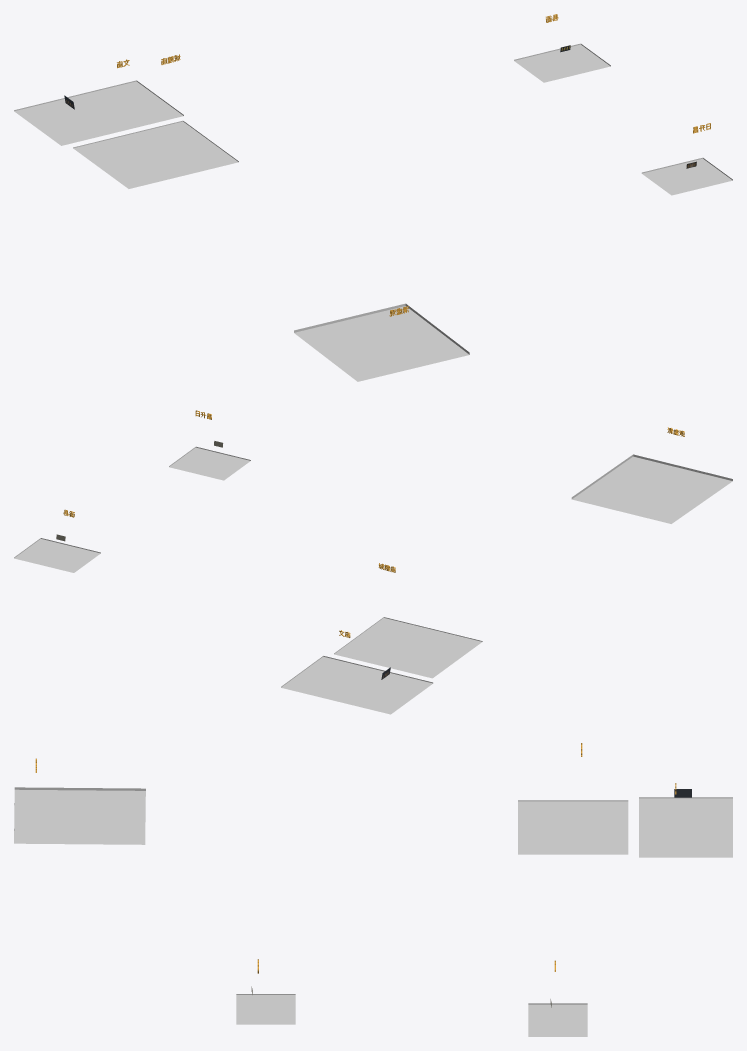
File: txt.glb
3 views of the same model, one above another, from view 1: azimuth 30°, elevation 25°; view 2: azimuth 150°, elevation 25°; view 3: azimuth 270°, elevation 25° (orthographic). The views are drawn at different scales.
Visible parts, largest first — view 1: _stm_qingxuguan, _stm_chenghuangmiao, _stm_wenmiao, _stm_xianya, _stm_rishengchang; view 2: _stm_qingxuguan, _stm_chenghuangmiao, _stm_wenmiao, _stm_xianya, _stm_rishengchang; view 3: _stm_qingxuguan, _stm_chenghuangmiao, _stm_wenmiao, _stm_xianya, _stm_rishengchang.
Boxes of the visible parts, x1,y1,x2,y2 form: _stm_qingxuguan: (294, 303, 469, 381); _stm_chenghuangmiao: (73, 120, 238, 188); _stm_wenmiao: (14, 80, 183, 145); _stm_xianya: (514, 43, 610, 82); _stm_rishengchang: (641, 157, 732, 195); _stm_qingxuguan: (571, 454, 732, 523); _stm_chenghuangmiao: (334, 617, 482, 678); _stm_wenmiao: (281, 656, 433, 714); _stm_xianya: (14, 538, 100, 572); _stm_rishengchang: (169, 446, 250, 480); _stm_qingxuguan: (14, 787, 145, 844); _stm_chenghuangmiao: (518, 800, 628, 854); _stm_wenmiao: (639, 797, 732, 857); _stm_xianya: (528, 1003, 587, 1036); _stm_rishengchang: (236, 994, 295, 1024).
Bounding box in the file's own units: 132 × 22.62 × 162.
6 materials, 3 textured.
